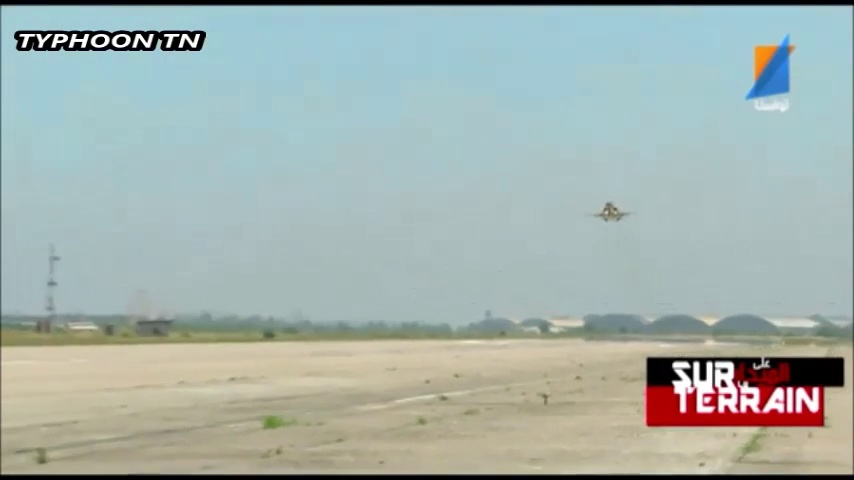Airplane: (592, 200, 633, 224)
